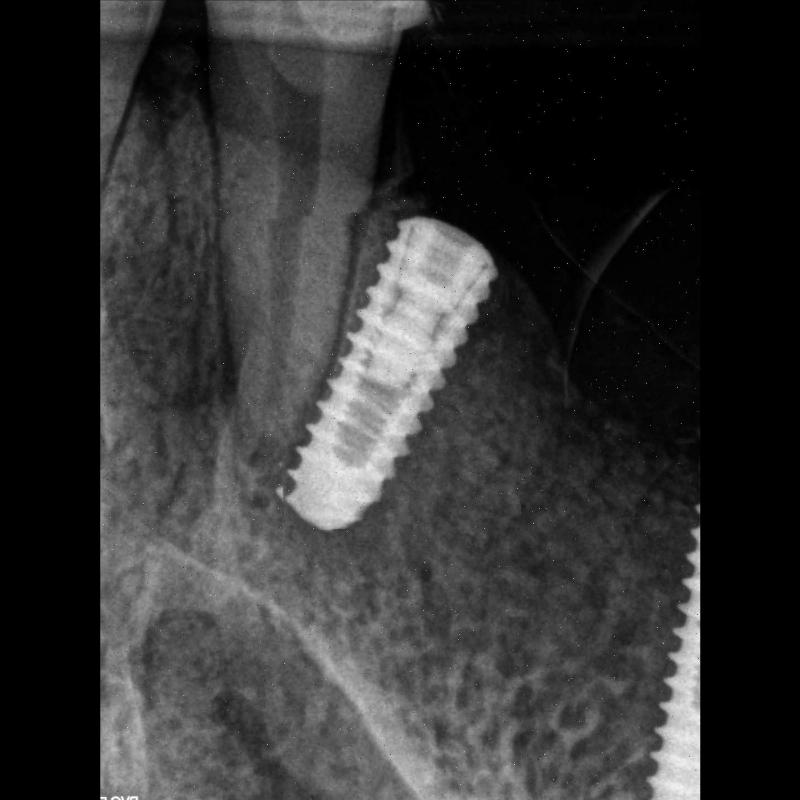osstem: (268, 206, 516, 528)
